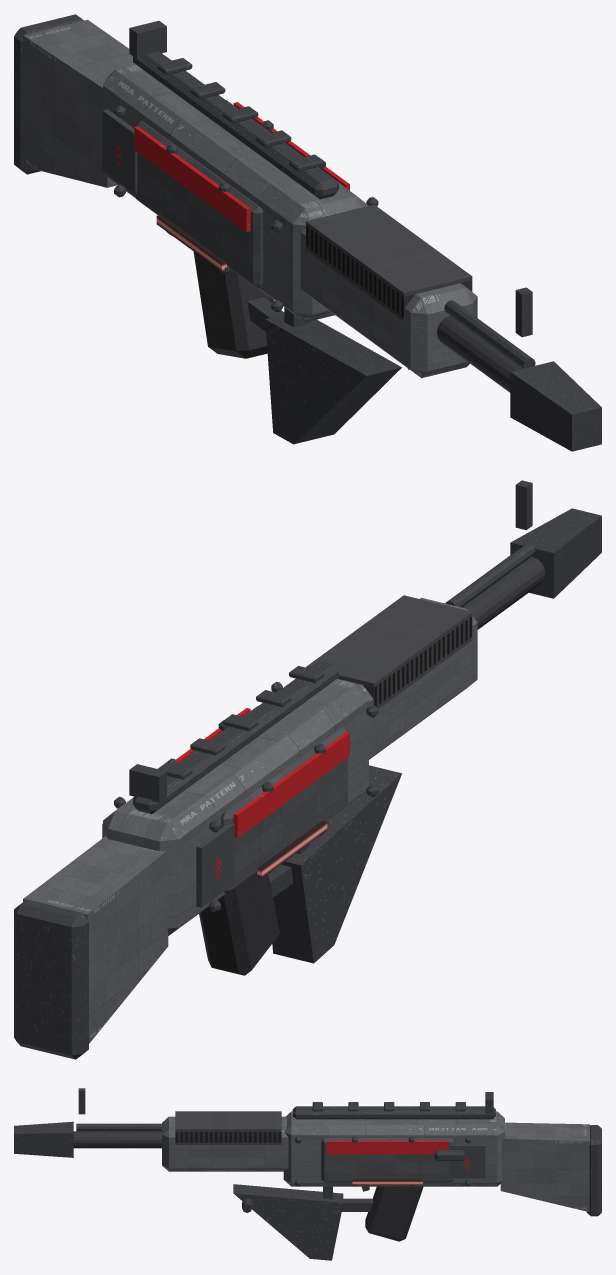
The model's file is mra_carbine.obj.
3 renders of one model, top to bottom at view 1: azimuth 30°, elevation 25°; view 2: azimuth 150°, elevation 25°; view 3: azimuth 270°, elevation 25°, orthographic. The views are drawn at different scales.
Visible parts, largest first — view 1: mra_carbine; view 2: mra_carbine; view 3: mra_carbine.
Boxes of the visible parts, left/top/right/bottom form: mra_carbine: left=14, top=14, right=601, bottom=451; mra_carbine: left=14, top=480, right=601, bottom=1059; mra_carbine: left=14, top=1088, right=601, bottom=1260.
Size of the model in its own units: 0.0837 by 0.2148 by 0.691.
Materials: 1 (1 with a texture image).
